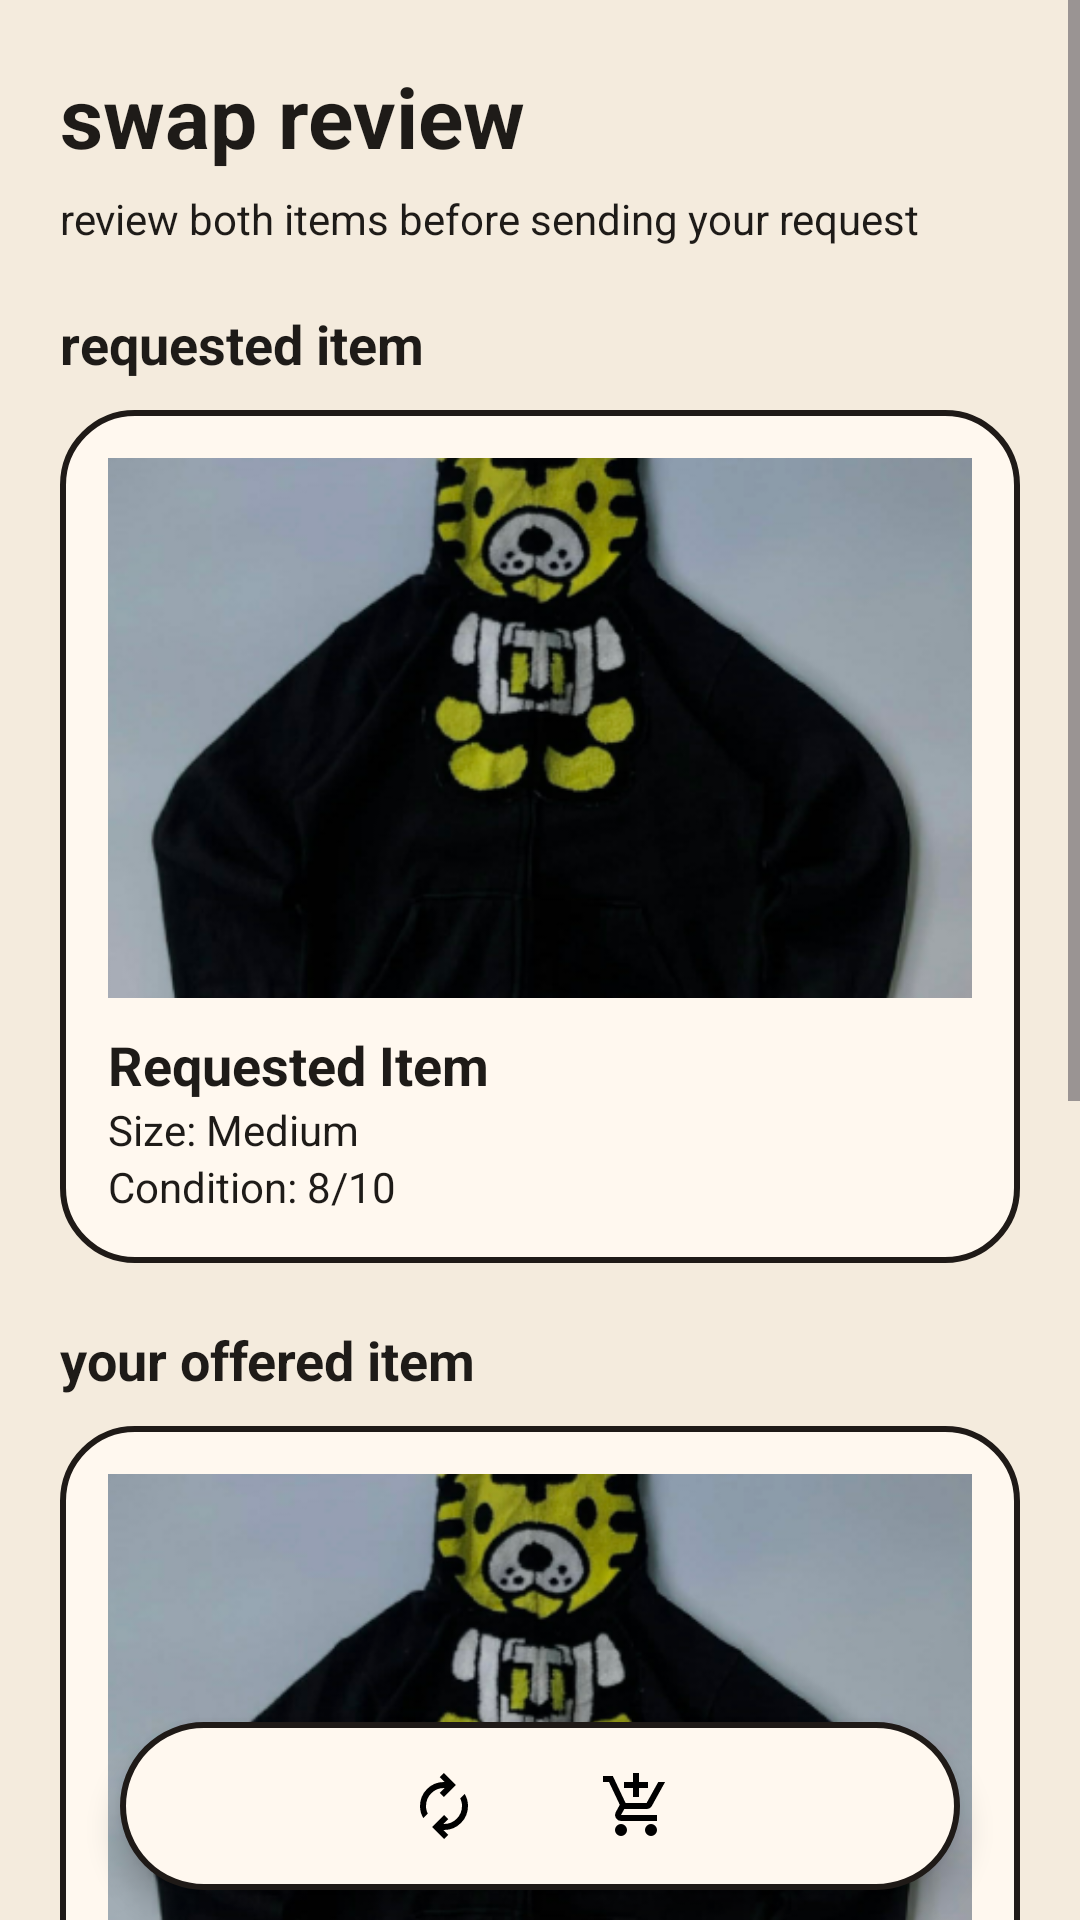

Icon bounding boxes for this 1080*1920 phone screenshot, format (x1, y1, x2, y2):
Cart: (603, 1773, 665, 1836)
Swap: (420, 1773, 468, 1839)
